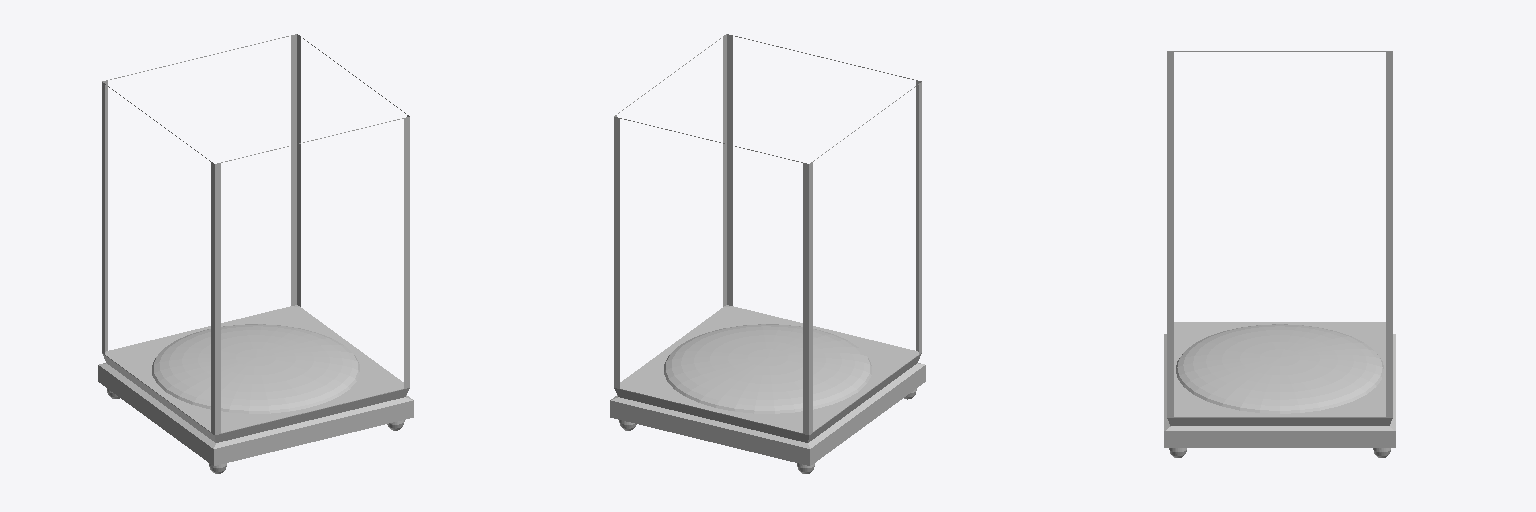
The model's file is rightglass2.obj.
3 renders of one model, left to right at view 1: azimuth 30°, elevation 25°; view 2: azimuth 150°, elevation 25°; view 3: azimuth 270°, elevation 25°, orthographic.
Parts seen in each view (by area): view 1: 立方体.040; view 2: 立方体.040; view 3: 立方体.040.
Boxes of the visible parts, x1,y1,x2,y2 form: 立方体.040: [98, 34, 413, 473]; 立方体.040: [610, 34, 925, 473]; 立方体.040: [1164, 51, 1395, 457].
Size of the model in its own units: 0.3964 by 0.5944 by 0.3964.